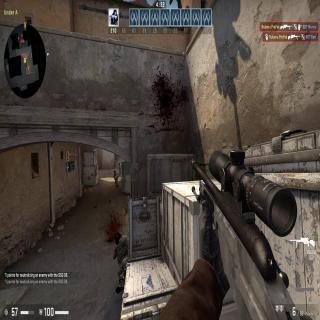CT-Body: (112, 169, 120, 191), (118, 162, 122, 178)
CT-Head: (113, 170, 116, 173), (118, 162, 120, 165)
